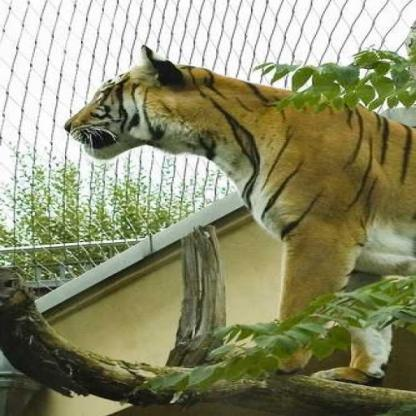Tiger: (51, 45, 415, 303)
